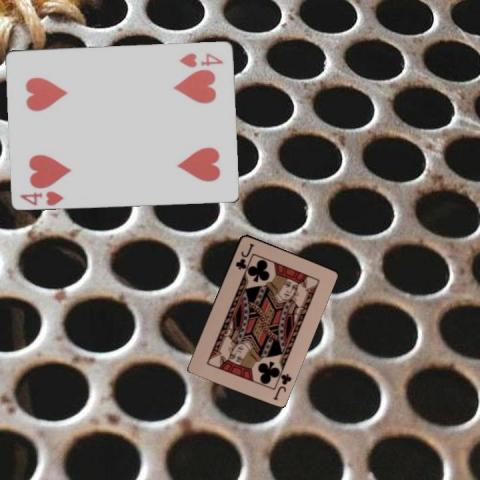4h: (17, 187, 65, 207), (176, 49, 224, 67)
Jc: (270, 370, 293, 401), (233, 240, 255, 271)
